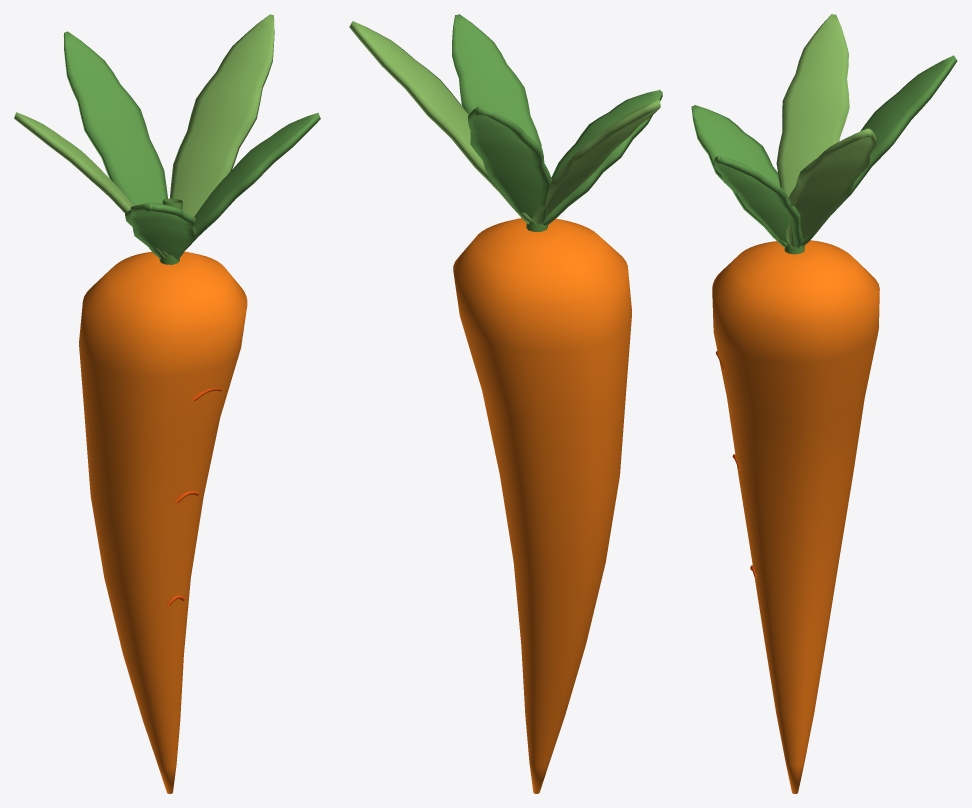
Rendered from carrot.glb.
3 renders of one model, left to right at view 1: azimuth 30°, elevation 25°; view 2: azimuth 150°, elevation 25°; view 3: azimuth 270°, elevation 25°, orthographic. The views are drawn at different scales.
Parts seen in each view (by area): view 1: Carrot | long softly tapered root | export, Carrot | carrot crown leaf 1 | export, Carrot | carrot crown leaf 2 | export, Carrot | carrot crown leaf 0 | export, Carrot | carrot crown leaf 4 | export, Carrot | carrot crown leaf 3 | export; view 2: Carrot | long softly tapered root | export, Carrot | carrot crown leaf 2 | export, Carrot | carrot crown leaf 0 | export, Carrot | carrot crown leaf 1 | export, Carrot | carrot crown leaf 3 | export, Carrot | carrot crown leaf 4 | export; view 3: Carrot | long softly tapered root | export, Carrot | carrot crown leaf 3 | export, Carrot | carrot crown leaf 1 | export, Carrot | carrot crown leaf 2 | export, Carrot | carrot crown leaf 0 | export, Carrot | carrot crown leaf 4 | export.
Part boxes in pixels (<box>): Carrot | long softly tapered root | export: <box>79,251,247,793</box>; Carrot | carrot crown leaf 1 | export: <box>170,14,274,216</box>; Carrot | carrot crown leaf 2 | export: <box>63,31,167,205</box>; Carrot | carrot crown leaf 0 | export: <box>184,112,320,250</box>; Carrot | carrot crown leaf 4 | export: <box>125,203,196,259</box>; Carrot | carrot crown leaf 3 | export: <box>14,112,167,257</box>; Carrot | long softly tapered root | export: <box>453,218,631,793</box>; Carrot | carrot crown leaf 2 | export: <box>468,106,552,224</box>; Carrot | carrot crown leaf 0 | export: <box>452,14,541,147</box>; Carrot | carrot crown leaf 1 | export: <box>349,21,531,224</box>; Carrot | carrot crown leaf 3 | export: <box>532,100,660,225</box>; Carrot | carrot crown leaf 4 | export: <box>542,89,662,225</box>; Carrot | long softly tapered root | export: <box>712,240,879,793</box>; Carrot | carrot crown leaf 3 | export: <box>776,14,849,197</box>; Carrot | carrot crown leaf 1 | export: <box>786,128,876,248</box>; Carrot | carrot crown leaf 2 | export: <box>801,55,957,246</box>; Carrot | carrot crown leaf 0 | export: <box>714,155,802,249</box>; Carrot | carrot crown leaf 4 | export: <box>691,105,787,247</box>.
Bounding box in the file's own units: 0.8467 × 2.1 × 0.6917.
